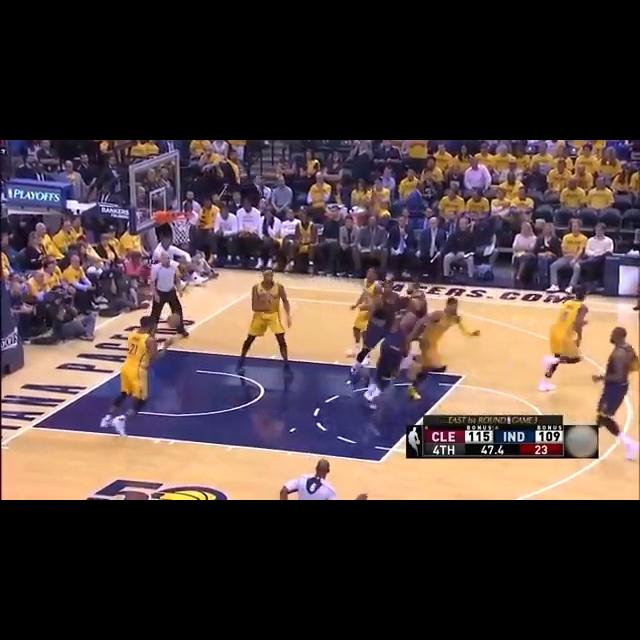basketball: (164, 313, 185, 329)
hoop: (163, 211, 196, 246)
